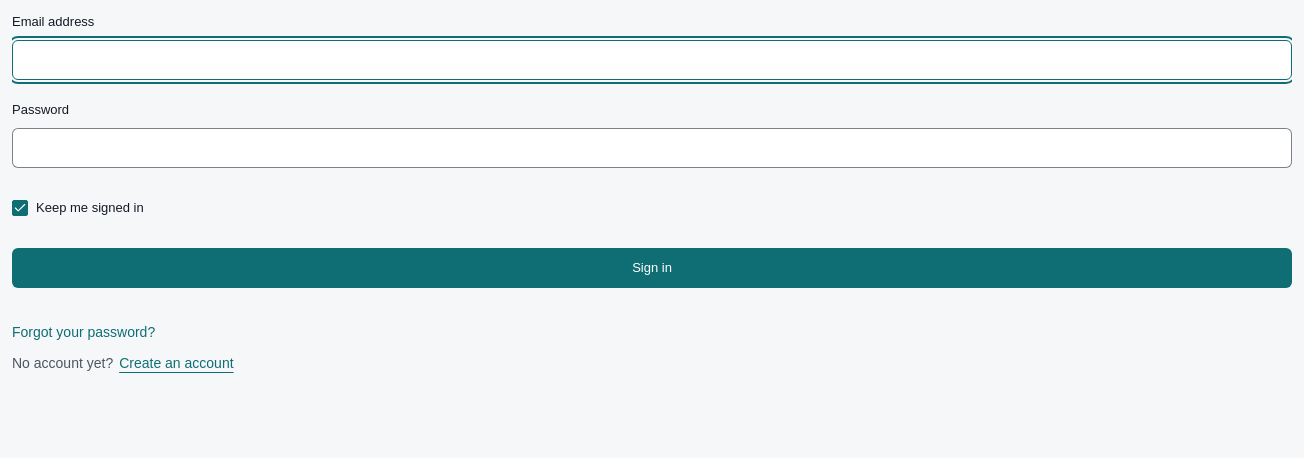
SignInForm (UI-001) › renders the retry-after seconds when the rate limiter refuses
The width and height of the screenshot is (1304, 458).
In the field labelled "Email address": coordinates (652, 60) top-left (12, 40), bottom-right (1292, 80), type "lena@example.edu"
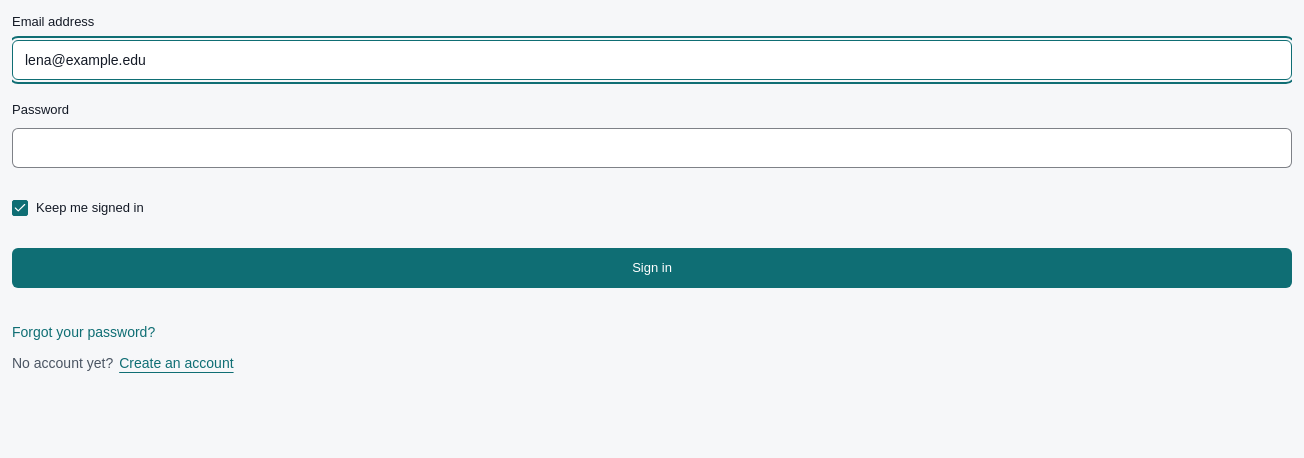
In the password field labelled "Password": coordinates (652, 148) top-left (12, 128), bottom-right (1292, 168), type "a-long-password"
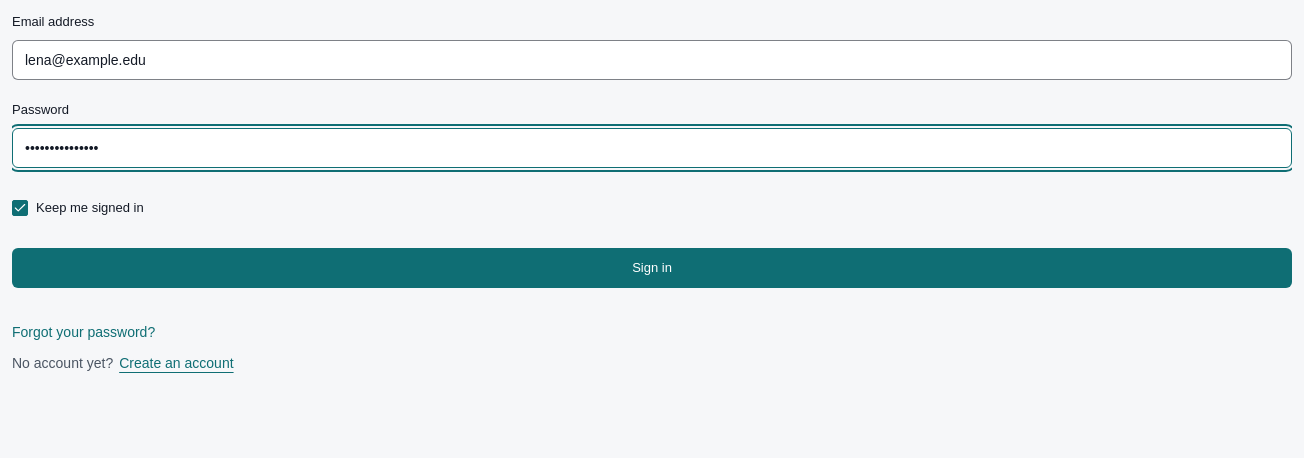
Click the button "Sign in": coordinates (652, 268) top-left (12, 248), bottom-right (1292, 288)
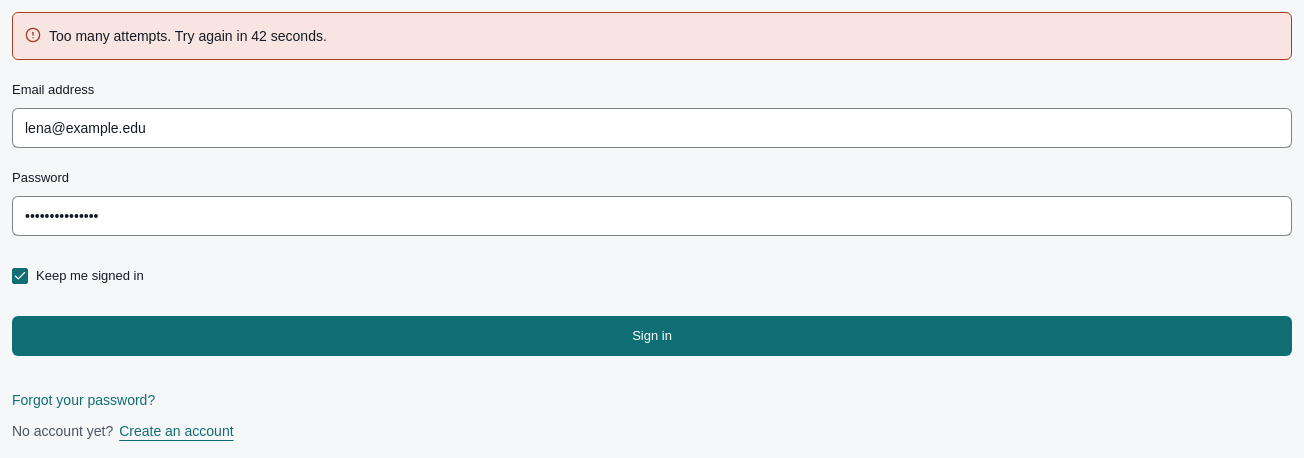
Result: the message shows "Try again in 42 seconds." at top-left (49, 28), bottom-right (327, 44)
